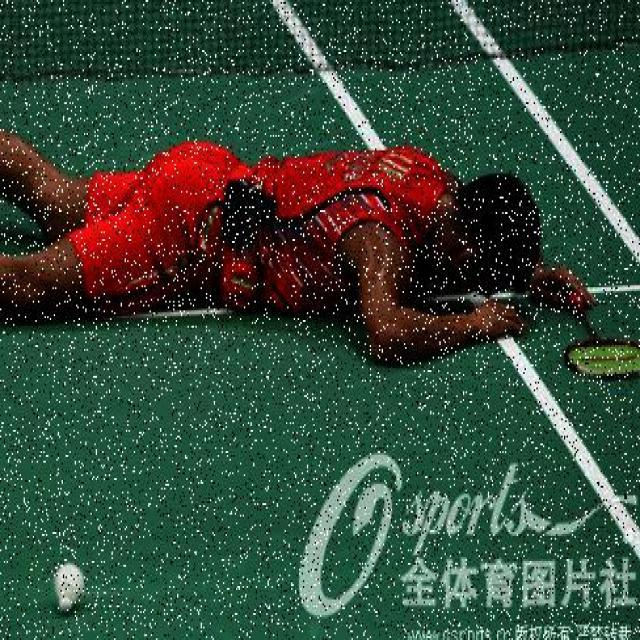fall: (12, 110, 543, 357)
